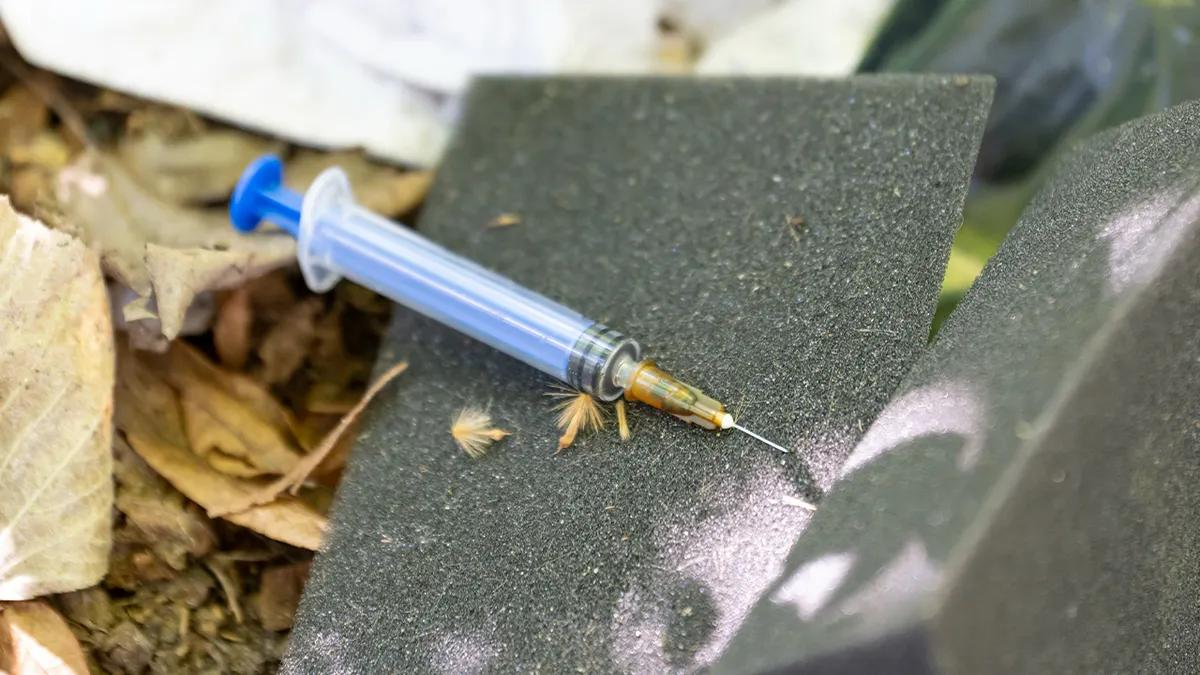Syringe: (230, 155, 787, 451)
